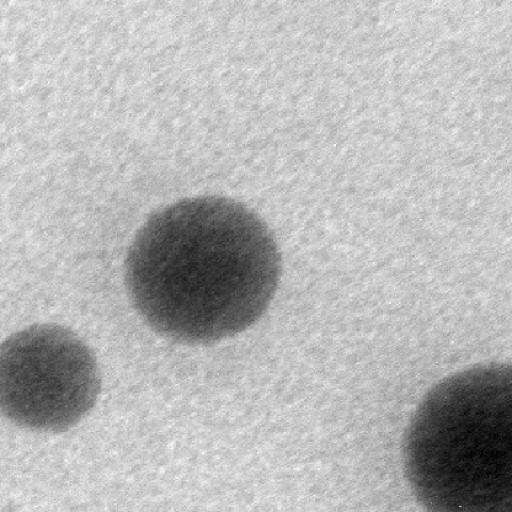Nanoparticles: (123, 195, 281, 339), (404, 360, 512, 510), (0, 321, 103, 431)
